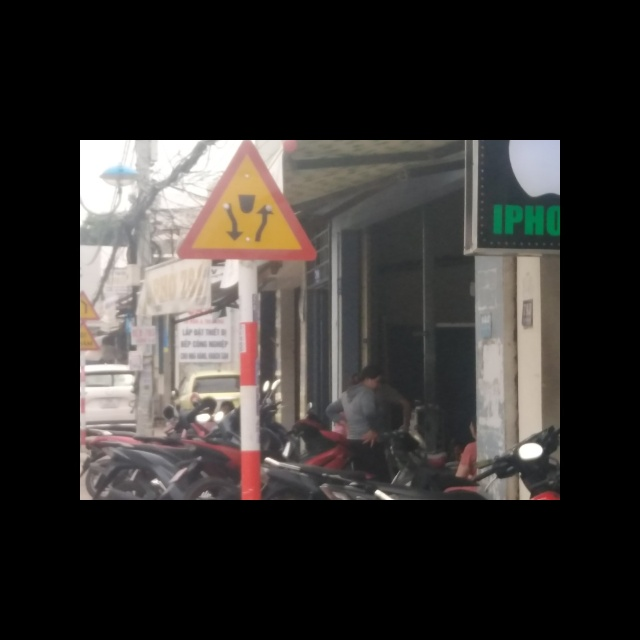Đường đôi: (174, 140, 317, 261)
